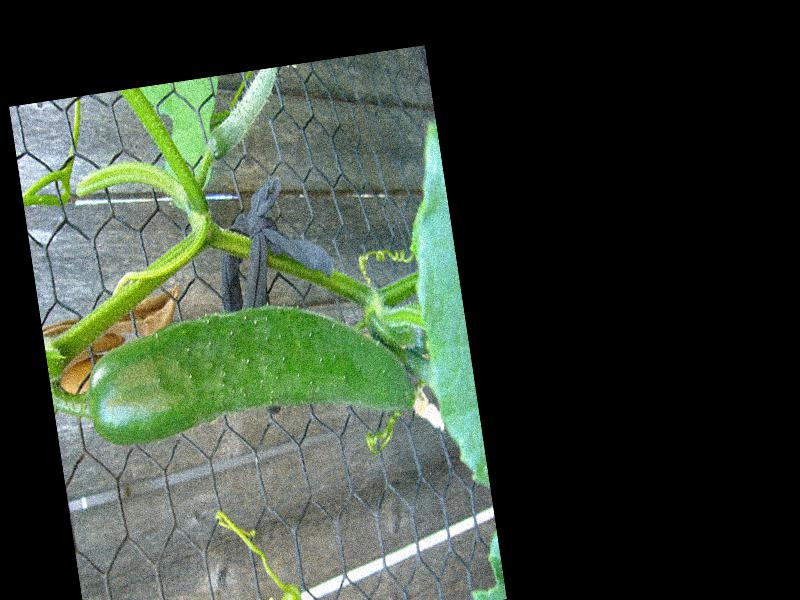Cucumber: (78, 284, 415, 457)
